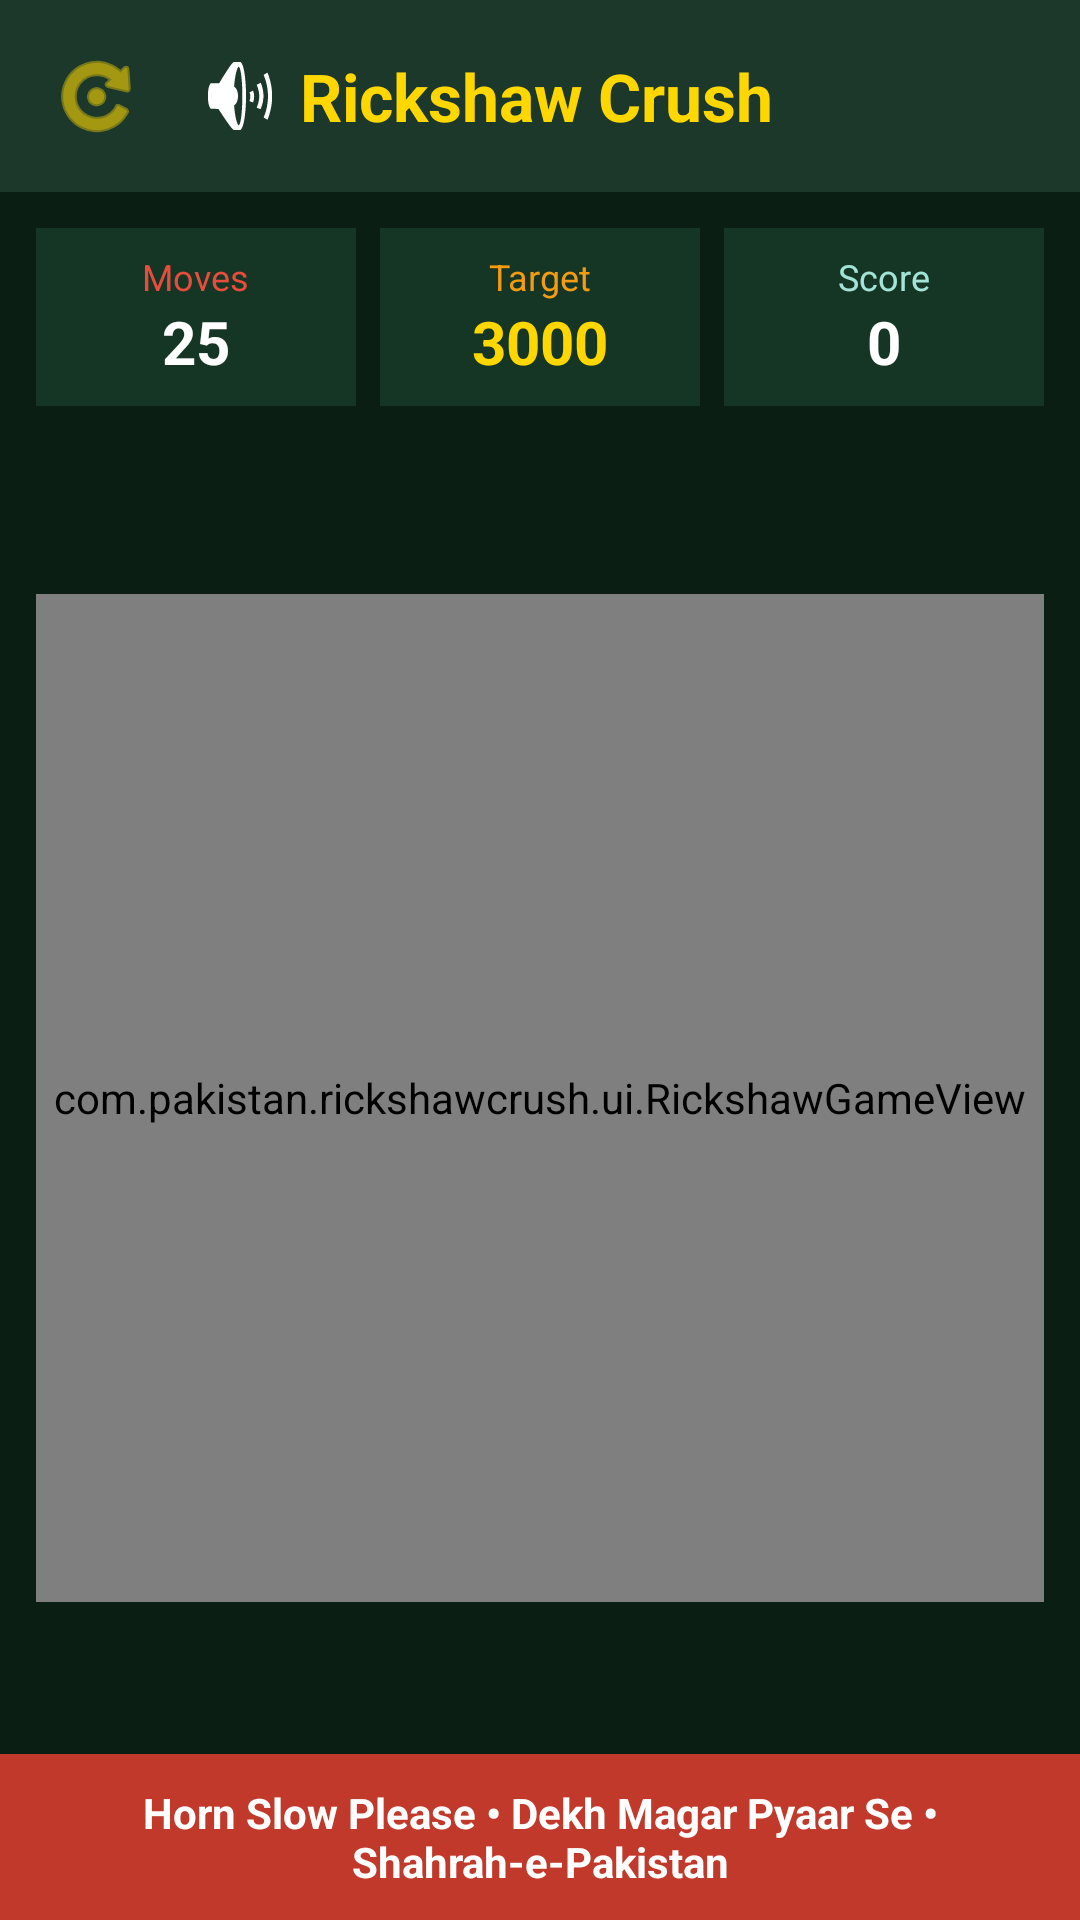

Where icons sit on this 1080 × 1920 app screen, as (x1, y1, x2, y2):
lock silent mode off: (208, 62, 272, 130)
rotate: (61, 61, 131, 132)
